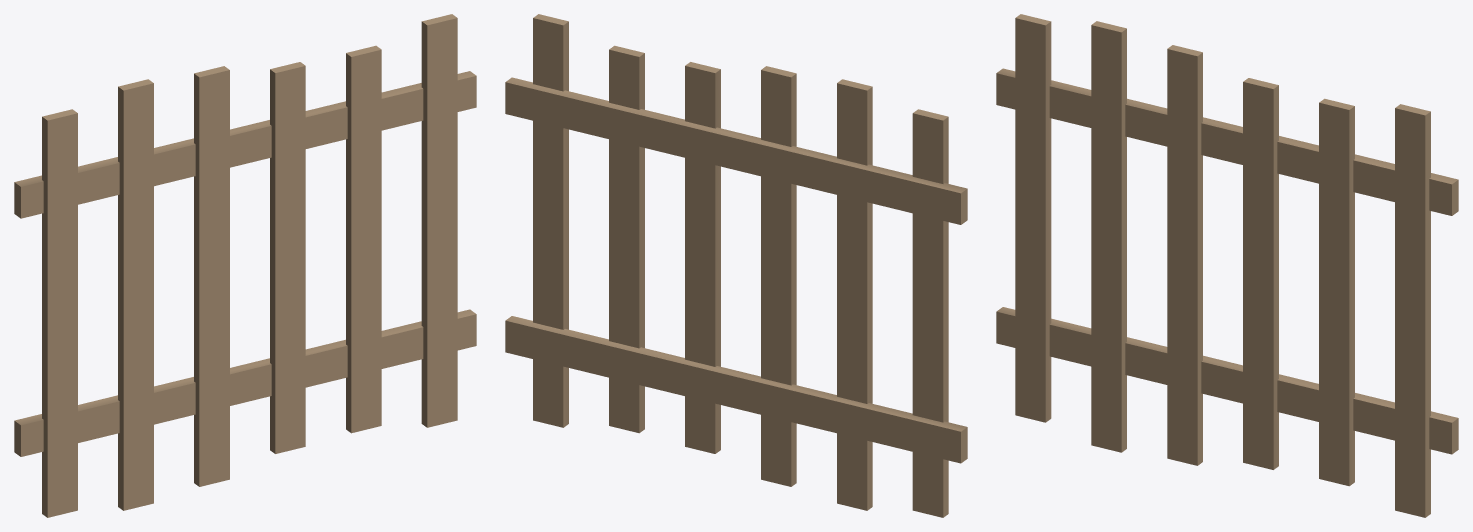
File: gate_wood.glb
3 views of the same model, side by side, from view 1: azimuth 30°, elevation 25°; view 2: azimuth 150°, elevation 25°; view 3: azimuth 330°, elevation 25° (orthographic).
Parts seen in each view (by area): view 1: gate_wood; view 2: gate_wood; view 3: gate_wood.
Part boxes in pixels (bbox=[...]): gate_wood: bbox=[14, 14, 476, 517]; gate_wood: bbox=[505, 14, 967, 517]; gate_wood: bbox=[996, 14, 1458, 517].
Size of the model in its own units: 1.2 by 1.06 by 0.0475.
